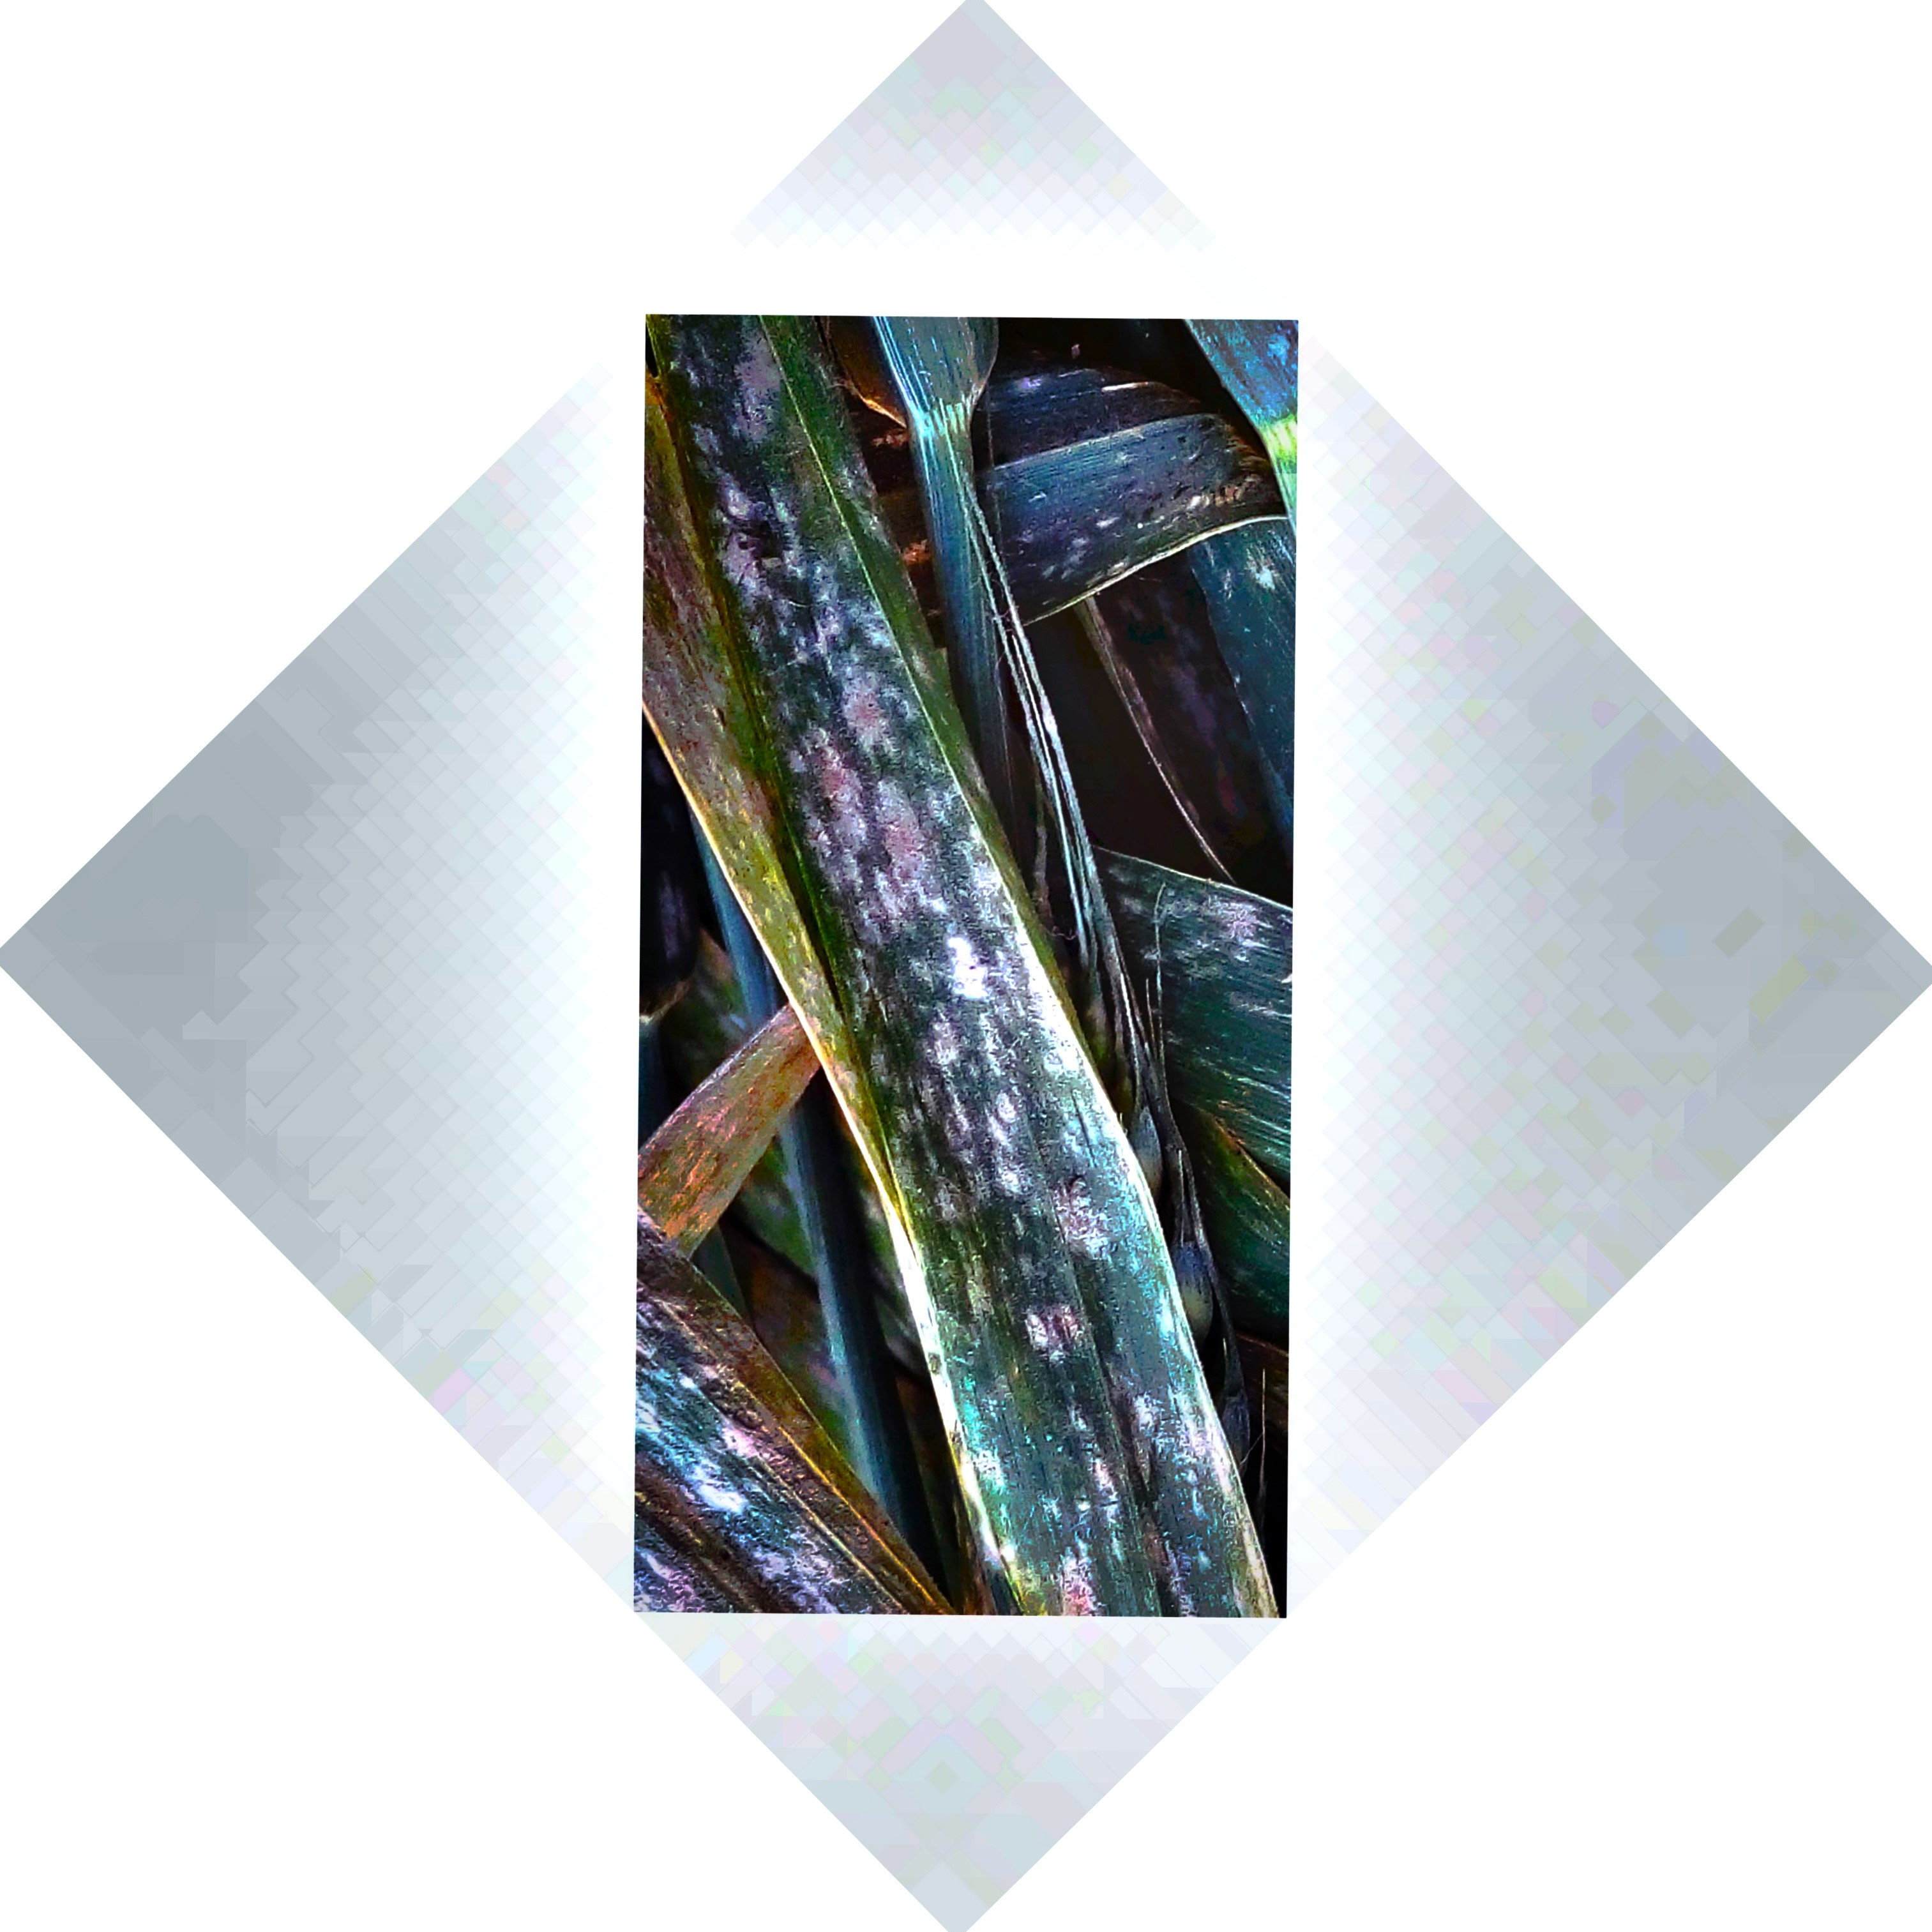Powdery Mildew: (704, 524, 1141, 1323)
